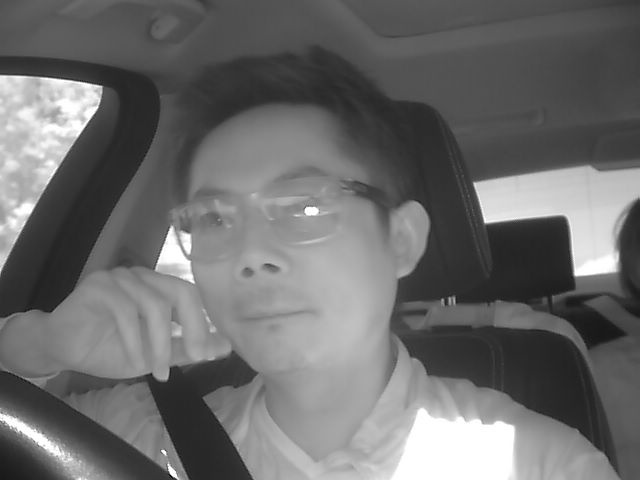hand: (58, 265, 233, 388)
